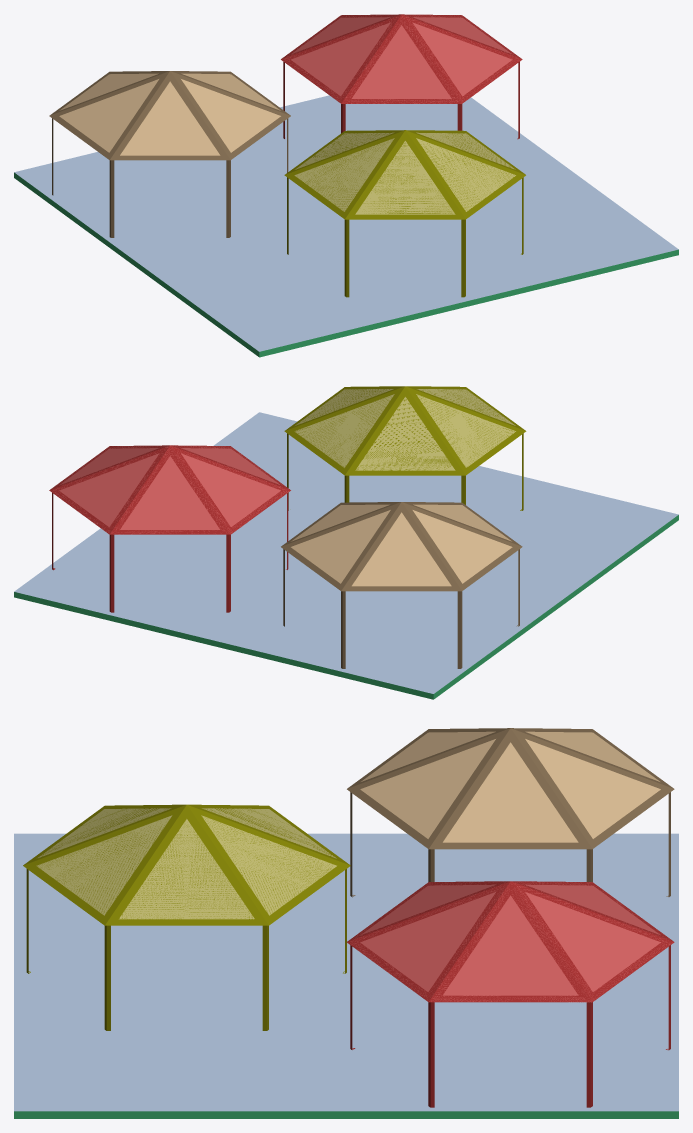
File: 25_gazebo.dae
3 renders of one model, top to bottom at view 1: azimuth 30°, elevation 25°; view 2: azimuth 150°, elevation 25°; view 3: azimuth 270°, elevation 25°, orthographic. The views are drawn at different scales.
Visible parts, largest first — view 1: SketchUp (×2), group_1 (×6), group_3 (×6), group_5 (×6); view 2: SketchUp (×2), group_1 (×6), group_3 (×6), group_5 (×6); view 3: SketchUp (×2), group_1 (×6), group_5 (×6), group_3 (×6), group_2 (×2), group_4 (×2).
Boxes of the visible parts, x1,y1,x2,y2 form: SketchUp (×2): (14,95,678,357); group_1 (×6): (49,71,290,160); group_3 (×6): (284,130,525,219); group_5 (×6): (281,14,522,103); SketchUp (×2): (14,412,678,699); group_1 (×6): (281,502,522,591); group_3 (×6): (284,386,526,475); group_5 (×6): (49,445,290,534); SketchUp (×2): (14,833,678,1118); group_1 (×6): (347,728,674,849); group_5 (×6): (347,881,674,1002); group_3 (×6): (23,804,350,925); group_2 (×2): (104,925,268,1030); group_4 (×2): (428,1002,592,1107).
Bounding box in the file's own units: 39 × 39.5 × 11.5.
